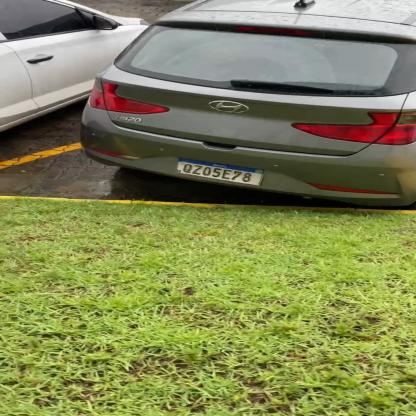Plate: (172, 154, 268, 188)
